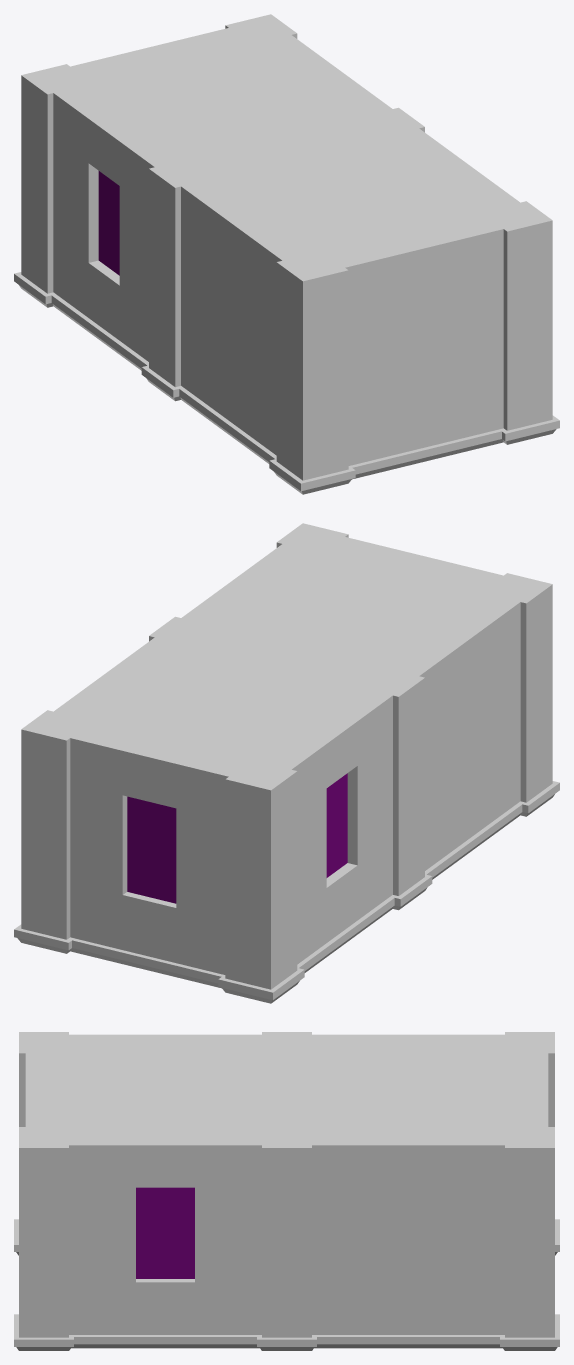
Rendered from bigrect_mid_3.fbx.
3 renders of one model, top to bottom at view 1: azimuth 30°, elevation 25°; view 2: azimuth 150°, elevation 25°; view 3: azimuth 270°, elevation 25°, orthographic. The views are drawn at different scales.
Visible parts, largest first — view 1: bigrect_mid_2.001; view 2: bigrect_mid_2.001; view 3: bigrect_mid_2.001.
Boxes of the visible parts, bbox=[...] form: bigrect_mid_2.001: bbox=[14, 14, 559, 494]; bigrect_mid_2.001: bbox=[14, 523, 559, 1003]; bigrect_mid_2.001: bbox=[14, 1032, 559, 1350].
Size of the model in its own units: 544 by 428 by 1044.
